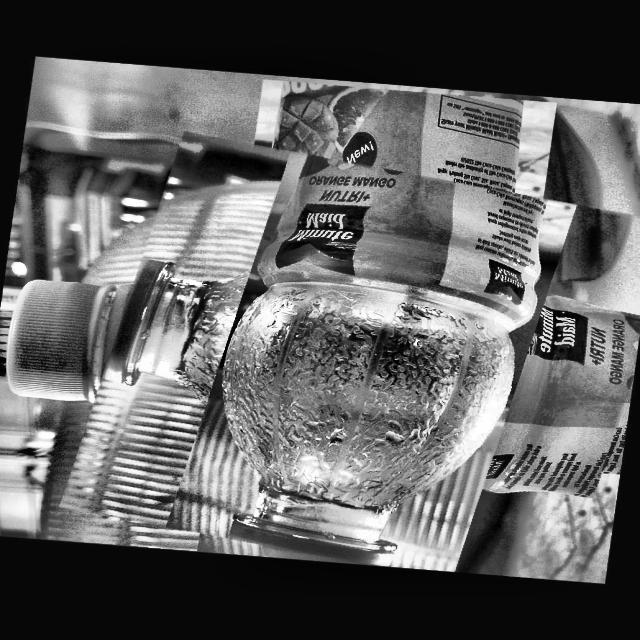Plastic-Bottle: (71, 139, 640, 584)
